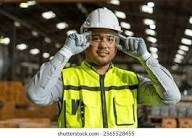safety_goggles: (83, 32, 125, 48)
